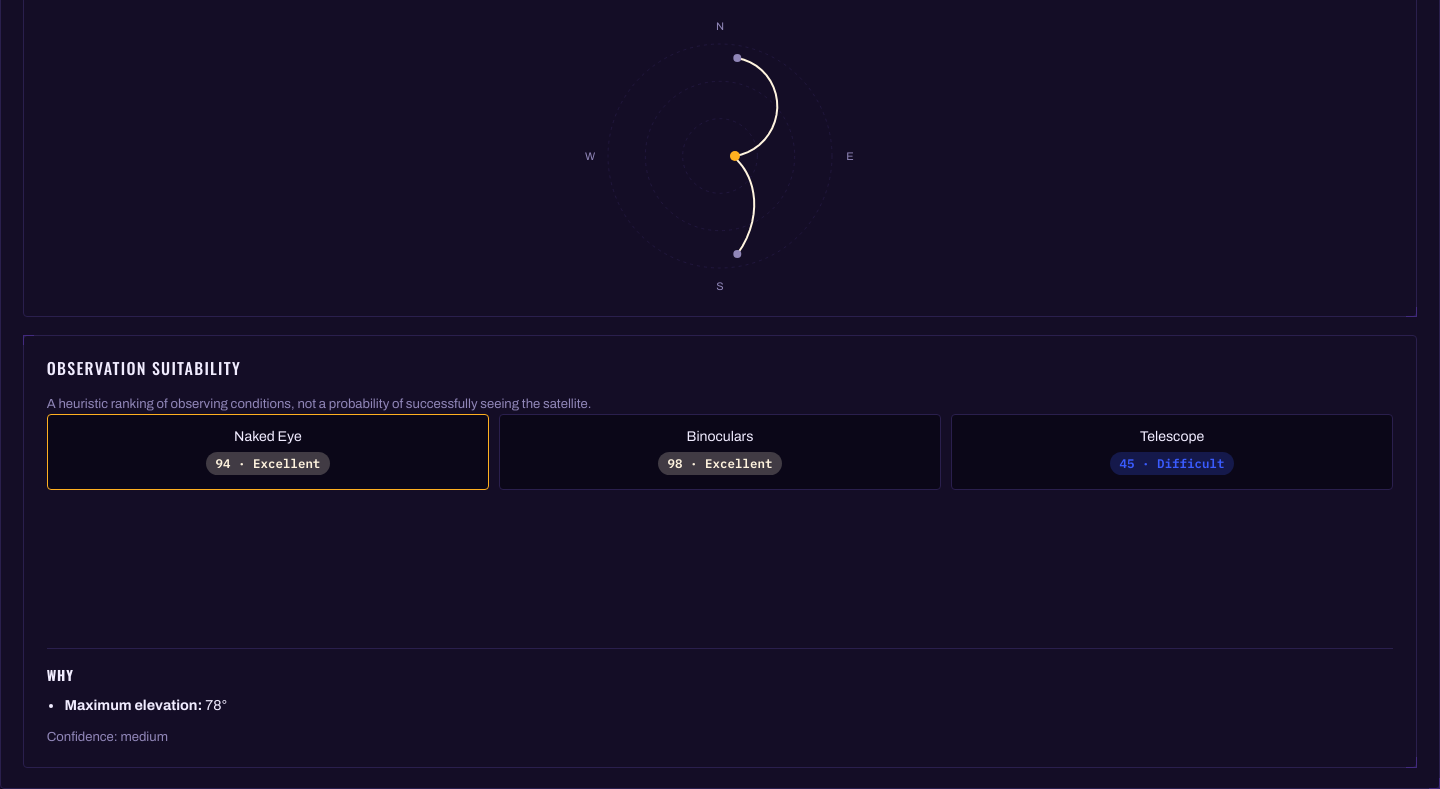
Scenario: PassDossier › loads and displays the pass summary and visibility comparison
The image size is (1440, 789).
(page scrolled)
Expected: the text "94 · Excellent" is shown, left=206, top=452, right=330, bottom=475
Expected: the text "98 · Excellent" is shown, left=658, top=452, right=782, bottom=475
// Switching to telescope should show its own factors.
Click the text "Telescope": (1172, 437) left=1140, top=429, right=1204, bottom=444
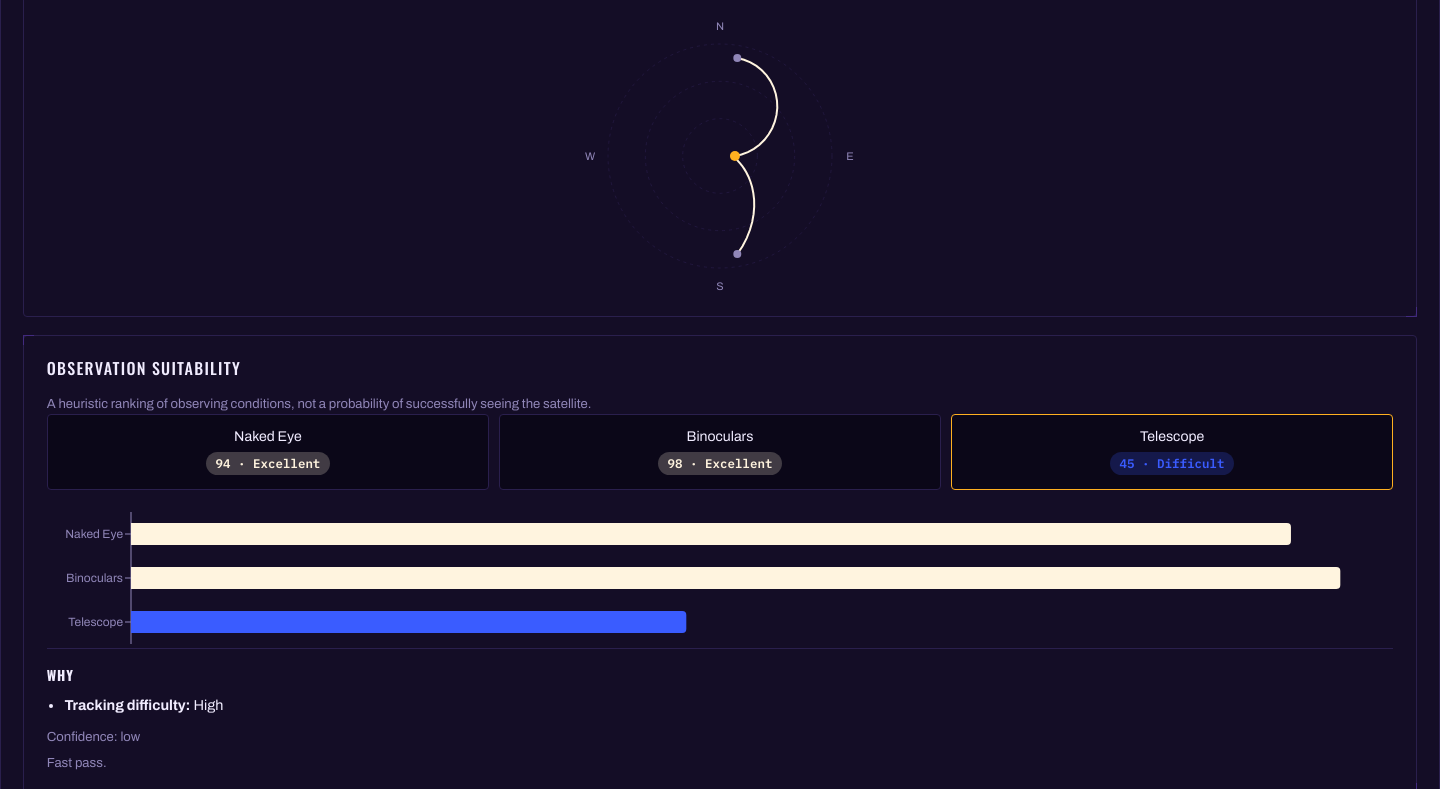
Expected: the text "Tracking difficulty:" is shown, left=64, top=697, right=190, bottom=713
